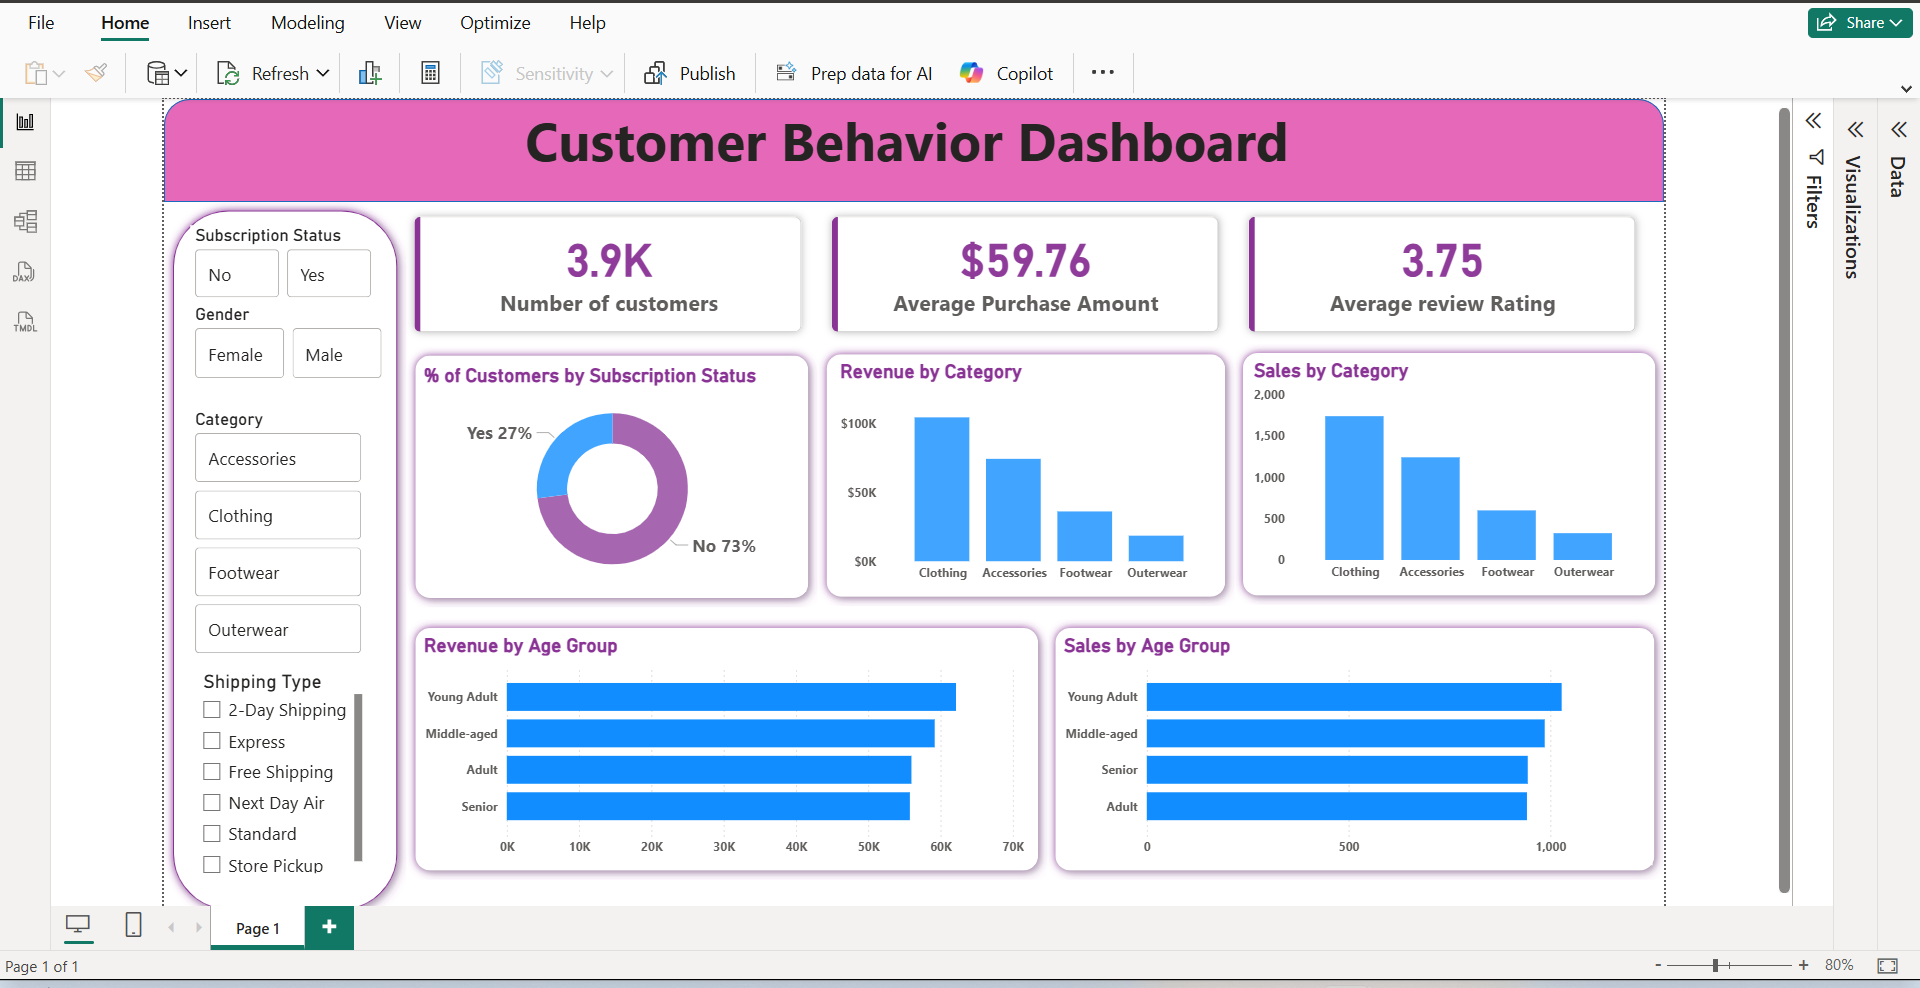

The page's visual inventory and layout, read from the dashboard file:
{"tool":"powerbi","page":{"name":"Page 1","canvas":[1500,820],"ordinal":0},"visuals":[{"type":"cardVisual","fields":{"Data":["customer_behavior customers.Number of customers","customer_behavior customers.Average Purchase Amount","customer_behavior customers.Average review Rating"]},"box":[222.8,90.5,1277.1,171.3],"z":0},{"type":"shape","box":[0,0,1499.9,103.1],"z":1000},{"type":"textbox","box":[0,0,1486,103.1],"z":2000},{"type":"shape","box":[242.3,247.9,410.8,260.4],"z":3000},{"type":"donutChart","title":"% of Customers by Subscription Status","fields":{"Category":["customer_behavior customers.subscription_status"],"Y":["CountNonNull(customer_behavior customers.customer_id)"]},"box":[254.9,264.6,387.2,228.4],"z":4000},{"type":"shape","box":[653.2,246.5,416.4,260.4],"z":5000},{"type":"shape","box":[1069.6,245.1,430.3,260.4],"z":6000},{"type":"columnChart","title":"Revenue by Category","fields":{"Category":["customer_behavior customers.category"],"Y":["Sum(customer_behavior customers.purchase_amount)"]},"box":[671.3,261.8,384.4,231.2],"z":7000},{"type":"columnChart","title":"Sales by Category","fields":{"Category":["customer_behavior customers.category"],"Y":["CountNonNull(customer_behavior customers.customer_id)"]},"box":[1084.9,260.4,401.1,231.2],"z":8000},{"type":"shape","box":[0,103.1,242.3,717.2],"z":9000},{"type":"advancedSlicerVisual","fields":{"Values":["customer_behavior customers.subscription_status"]},"box":[26.5,126.7,186.6,78],"z":10000},{"type":"advancedSlicerVisual","fields":{"Values":["customer_behavior customers.gender"]},"box":[26.5,204.7,196.4,79.4],"z":11000},{"type":"advancedSlicerVisual","title":"Category","fields":{"Values":["customer_behavior customers.category"]},"box":[26.5,310.6,176.9,256.3],"z":12000},{"type":"slicer","fields":{"Values":["customer_behavior customers.shipping_type"]},"box":[26.5,566.8,176.9,213.1],"z":13000},{"type":"shape","box":[242.3,519.5,640.6,260.4],"z":13500},{"type":"clusteredBarChart","title":"Revenue by Age Group","fields":{"Y":["Sum(customer_behavior customers.purchase_amount)"],"Category":["customer_behavior customers.age_group"]},"box":[254.9,534.8,610,231.2],"z":14000},{"type":"shape","box":[883,519.5,617,260.4],"z":14001},{"type":"clusteredBarChart","title":"Sales by Age Group","fields":{"Category":["customer_behavior customers.age_group"],"Y":["CountNonNull(customer_behavior customers.customer_id)"]},"box":[895.5,534.8,593.3,231.2],"z":14002}]}

Visuals, with their boxes on the page's 1500x820 design canvas (x1, y1, x2, y2). These are canvas units, not pixel positions in the 1920x988 screenshot, which may show the page scaled, cropped or inside an application window:
cardVisual - customer_behavior customers.Number of customers x customer_behavior customers.Average Purchase Amount: <box>223,90,1500,262</box>
shape: <box>0,0,1500,103</box>
textbox: <box>0,0,1486,103</box>
shape: <box>242,248,653,508</box>
"% of Customers by Subscription Status" donutChart: <box>255,265,642,493</box>
shape: <box>653,246,1070,507</box>
shape: <box>1070,245,1500,506</box>
"Revenue by Category" columnChart: <box>671,262,1056,493</box>
"Sales by Category" columnChart: <box>1085,260,1486,492</box>
shape: <box>0,103,242,820</box>
advancedSlicerVisual - customer_behavior customers.subscription_status: <box>26,127,213,205</box>
advancedSlicerVisual - customer_behavior customers.gender: <box>26,205,223,284</box>
"Category" advancedSlicerVisual: <box>26,311,203,567</box>
slicer - customer_behavior customers.shipping_type: <box>26,567,203,780</box>
shape: <box>242,520,883,780</box>
"Revenue by Age Group" clusteredBarChart: <box>255,535,865,766</box>
shape: <box>883,520,1500,780</box>
"Sales by Age Group" clusteredBarChart: <box>896,535,1489,766</box>
